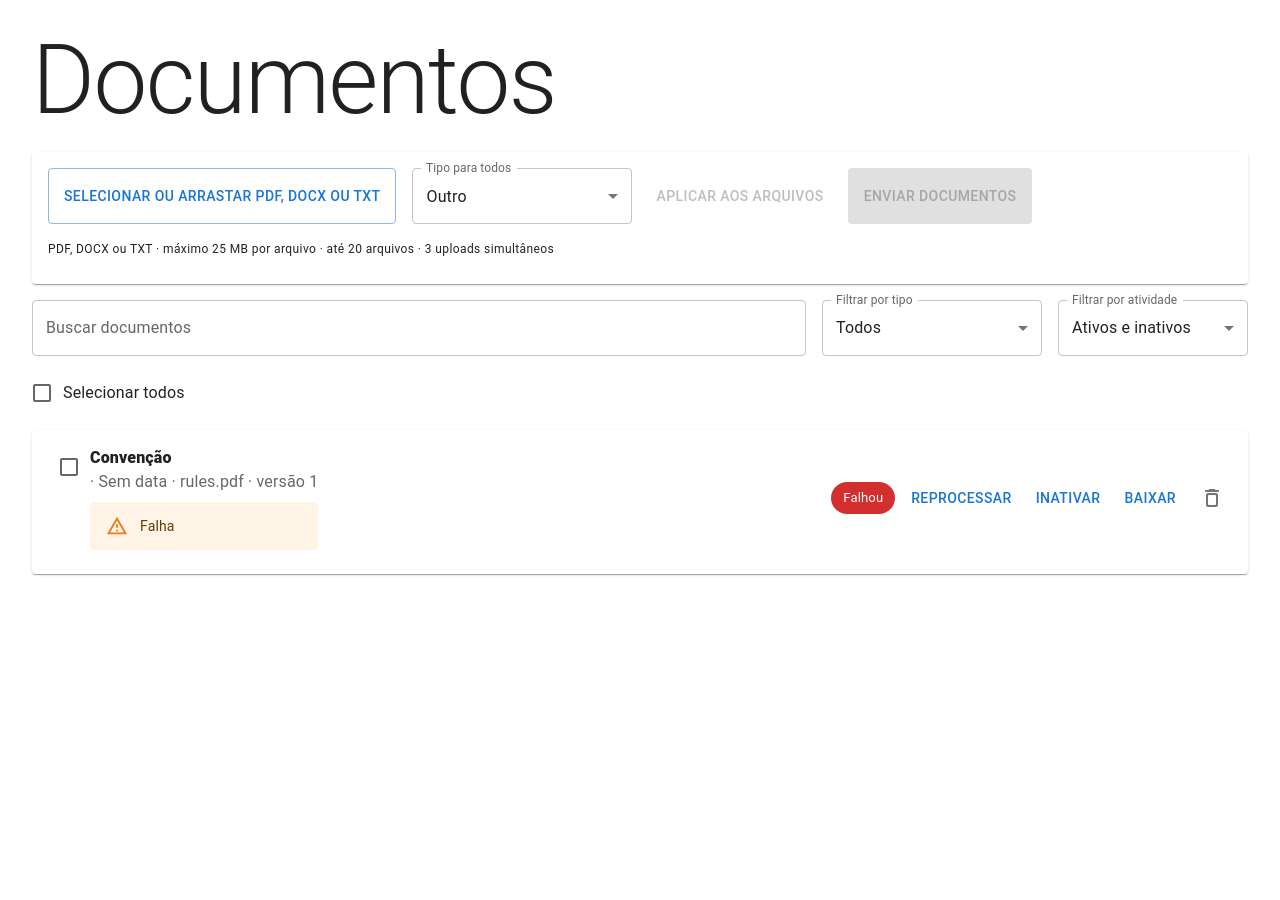
Test: CondominiumAssistantPage › cancels or confirms permanent deletion and removes the card
Expected: the text "Convenção" is shown, [90,448,172,467]
Click the button named "Excluir Convenção". click: (1212,498)
box: [1192,478,1232,518]
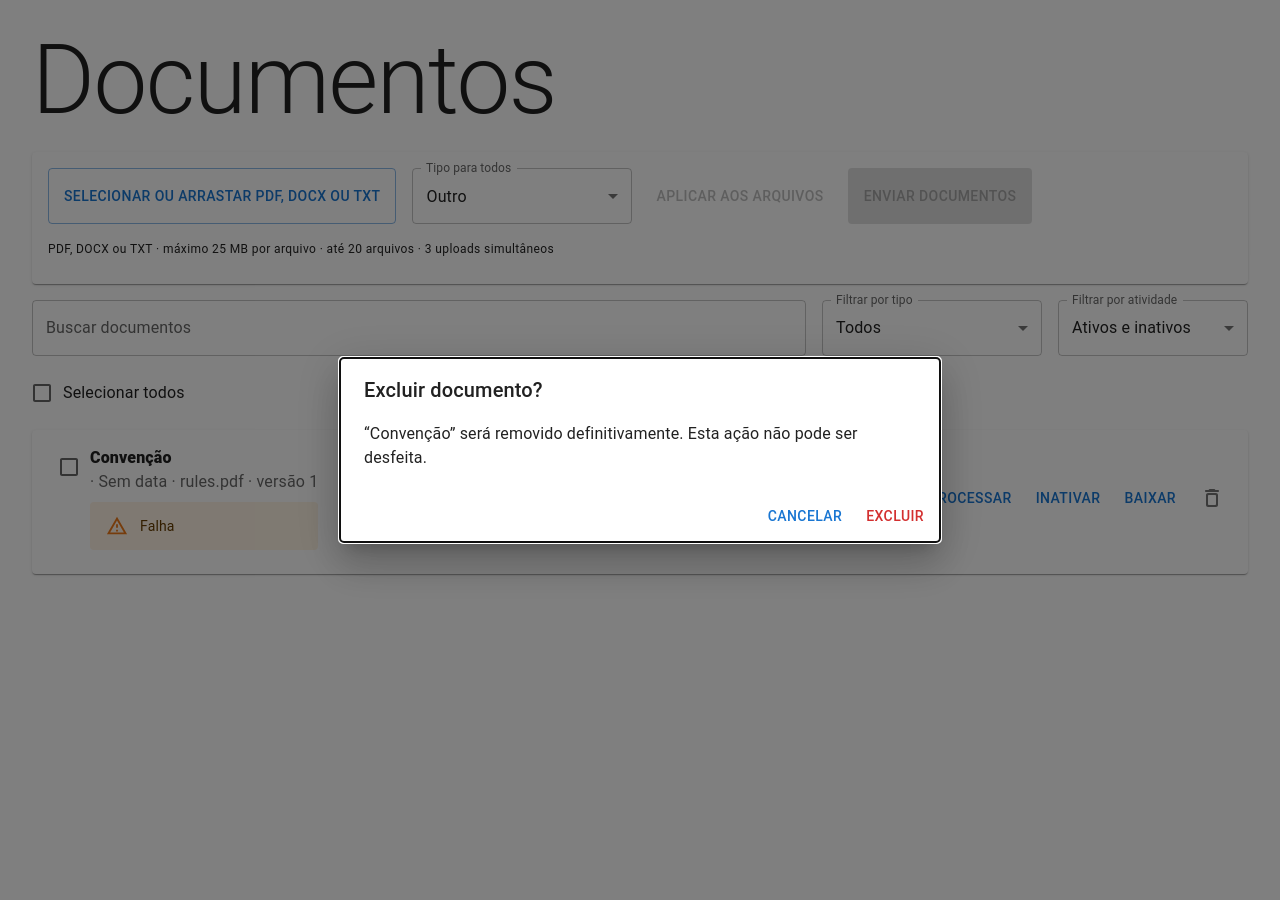
Result: the text "será removido definitivamente" is shown at [364,424,858,467]
Click the button "Cancelar". click: (805,516)
box: [760,498,850,534]
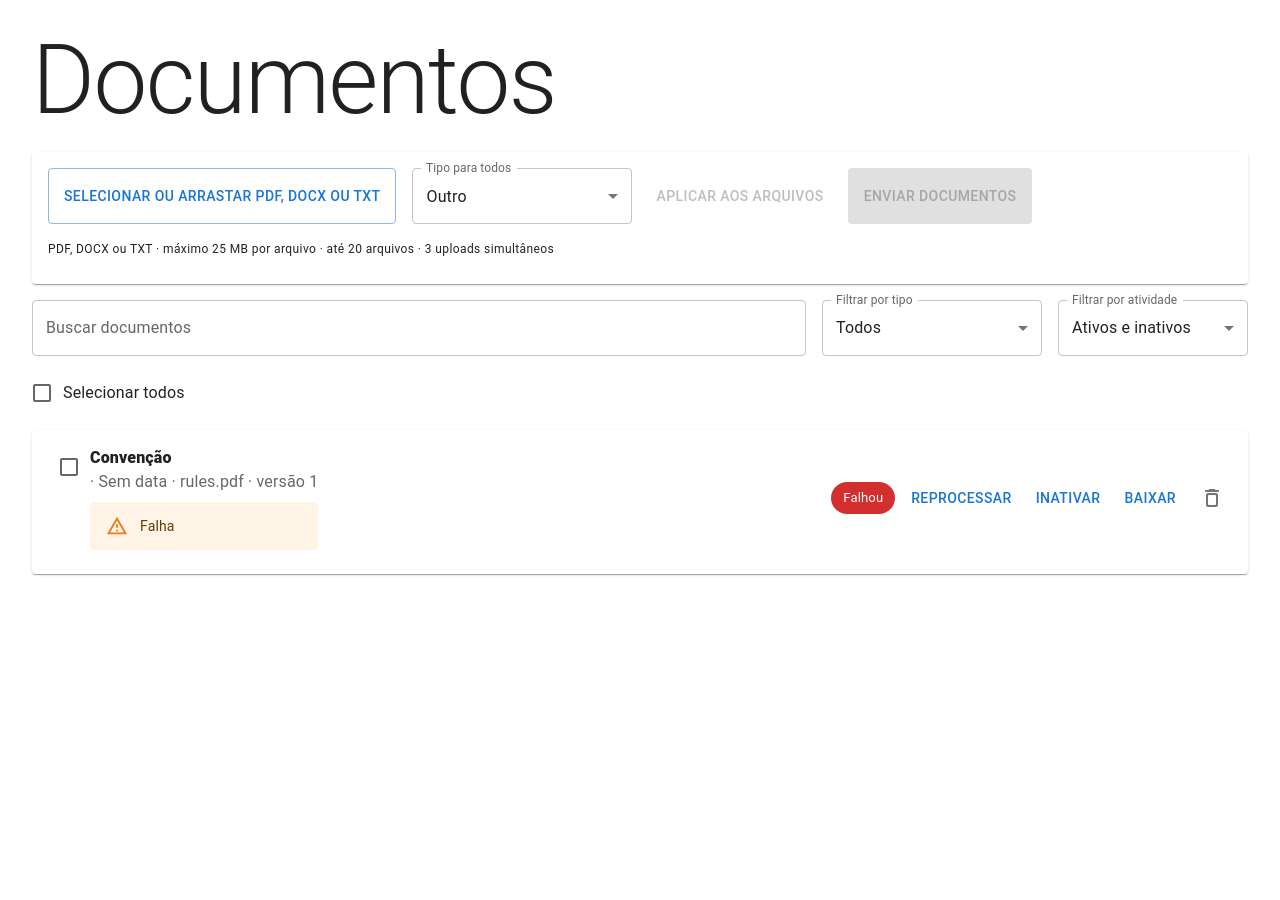
Result: the dialog is gone
Click the button named "Excluir Convenção". click: (1212,498)
box: [1192,478,1232,518]
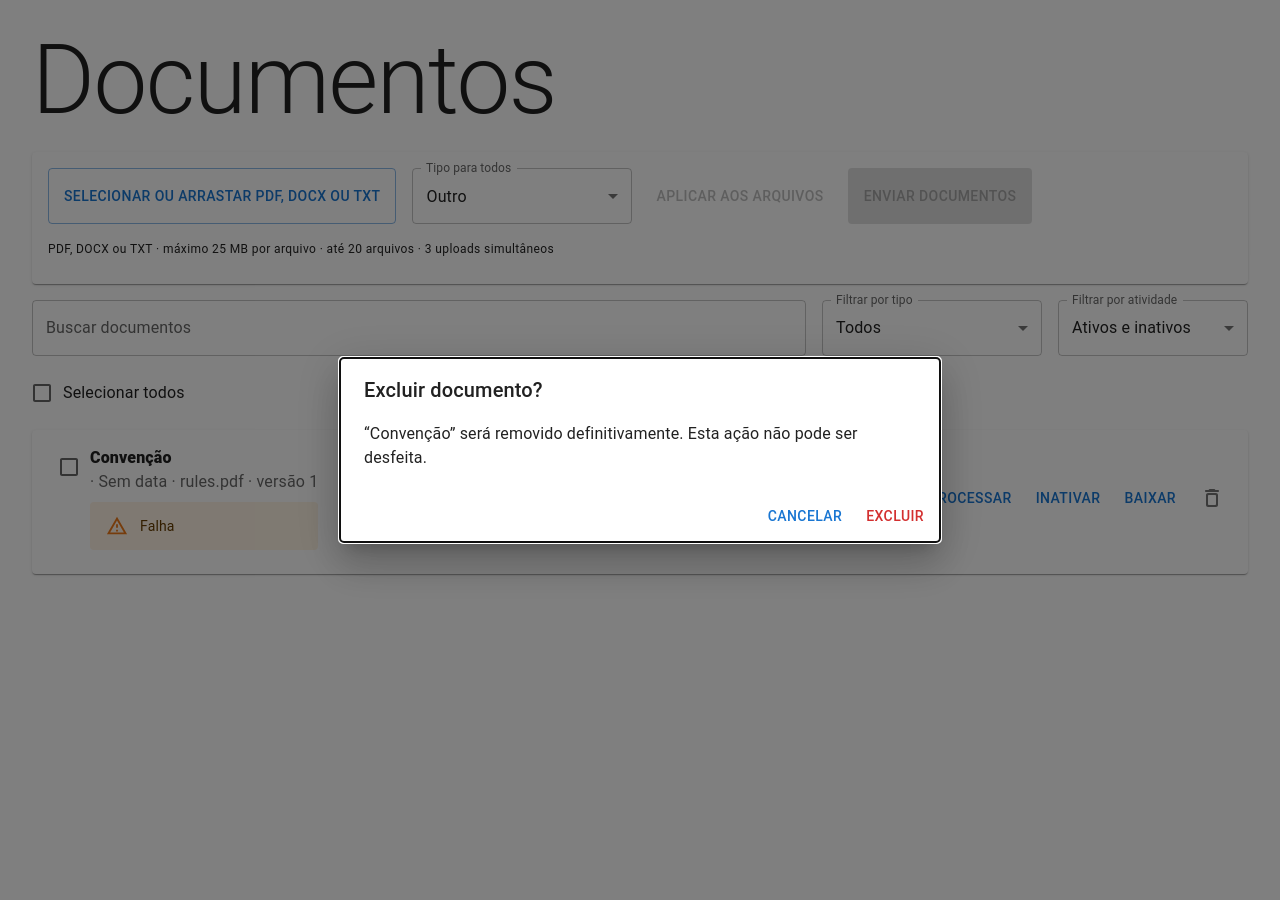
Click the button "Excluir". click: (895,516)
box: [858,498,932,534]
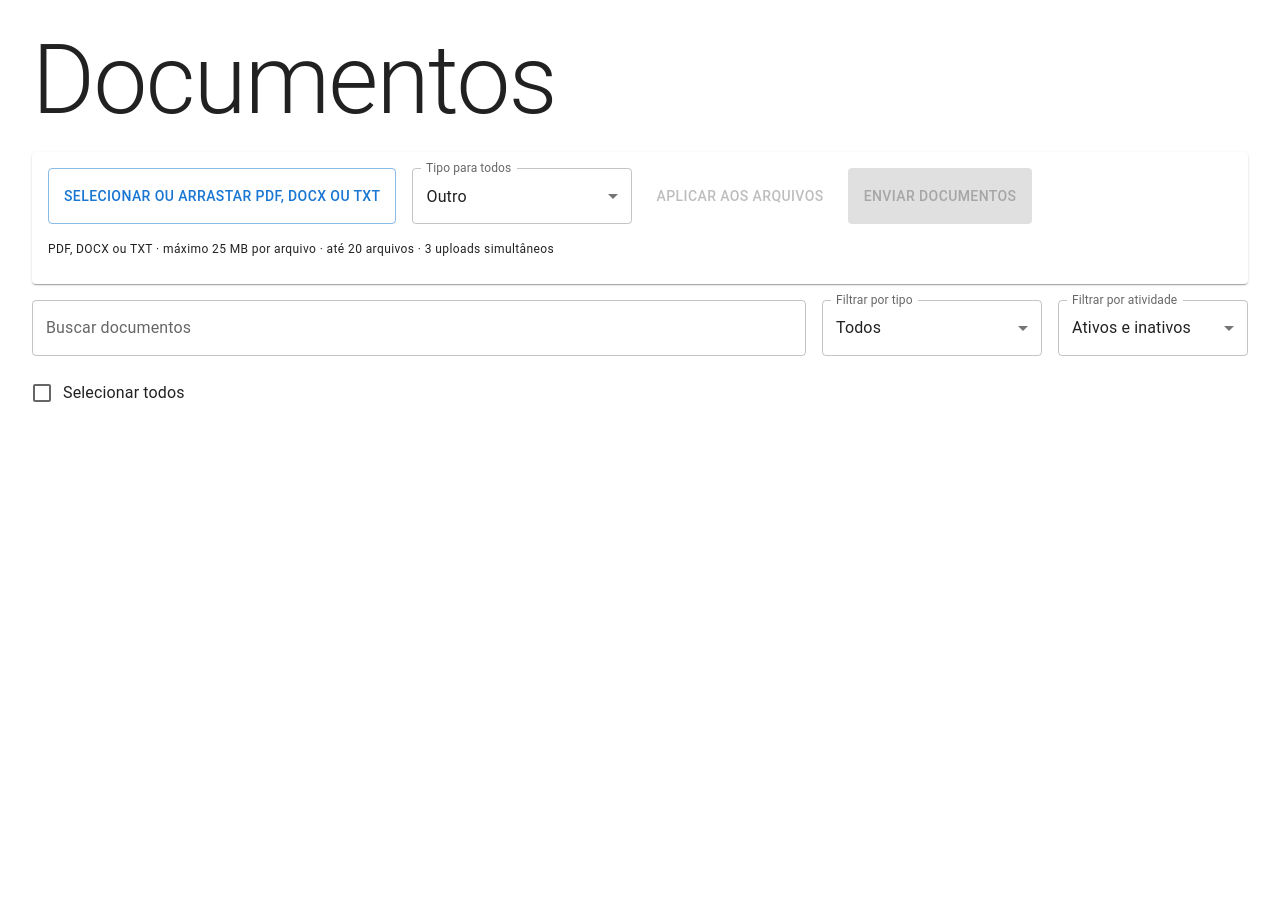
Result: the text "Convenção" is gone
